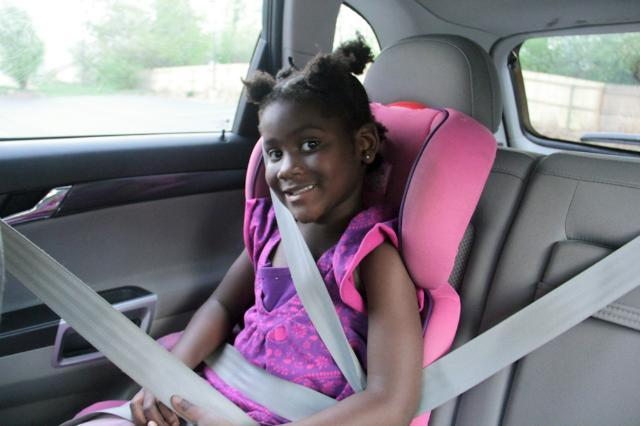SafeDriving: (294, 130, 327, 156), (260, 141, 290, 163)
Seatbelt: (0, 219, 639, 426)
